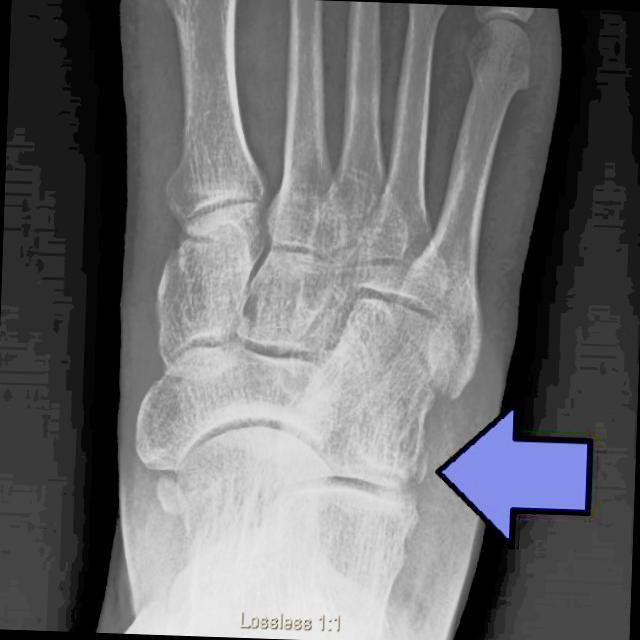Avlusion Fracture: (404, 448, 436, 494)
